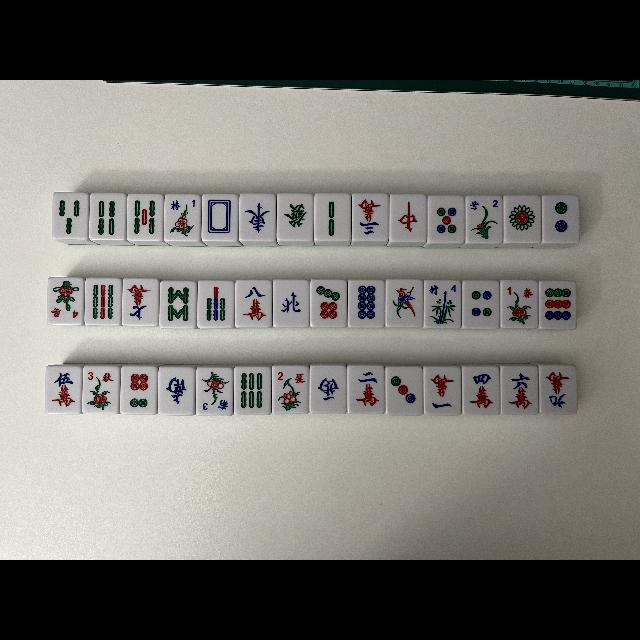b1: (387, 280, 423, 326)
b2: (314, 193, 351, 240)
b3: (52, 192, 88, 238)
b4: (89, 192, 125, 240)
b5: (128, 194, 162, 240)
b6: (234, 368, 270, 414)
b7: (198, 280, 232, 328)
b8: (160, 282, 197, 328)
b9: (86, 278, 120, 324)
c1: (424, 367, 462, 415)
c2: (348, 366, 384, 414)
c3: (352, 195, 388, 241)
c4: (462, 368, 500, 414)
c5: (46, 366, 80, 412)
c6: (500, 366, 540, 414)
c7: (122, 280, 158, 324)
c8: (236, 281, 272, 327)
c9: (540, 366, 578, 414)
d1: (504, 195, 542, 242)
d2: (543, 197, 579, 243)
d3: (386, 368, 422, 414)
d4: (462, 282, 500, 328)
d5: (430, 198, 464, 242)
d6: (121, 367, 157, 413)
d7: (311, 280, 347, 326)
d8: (348, 280, 384, 326)
d9: (539, 282, 577, 328)
dg: (277, 194, 313, 240)
dr: (391, 196, 427, 240)
dw: (202, 193, 238, 241)
f1: (166, 196, 200, 212)
f2: (466, 196, 502, 214)
f3: (195, 396, 232, 416)
f4: (426, 281, 460, 297)
s1: (502, 280, 536, 300)
s2: (272, 366, 308, 386)
s3: (83, 366, 119, 384)
s4: (48, 306, 84, 322)
we: (240, 193, 276, 240)
wn: (274, 280, 308, 326)
ws: (159, 368, 195, 414)
ww: (310, 364, 346, 414)
